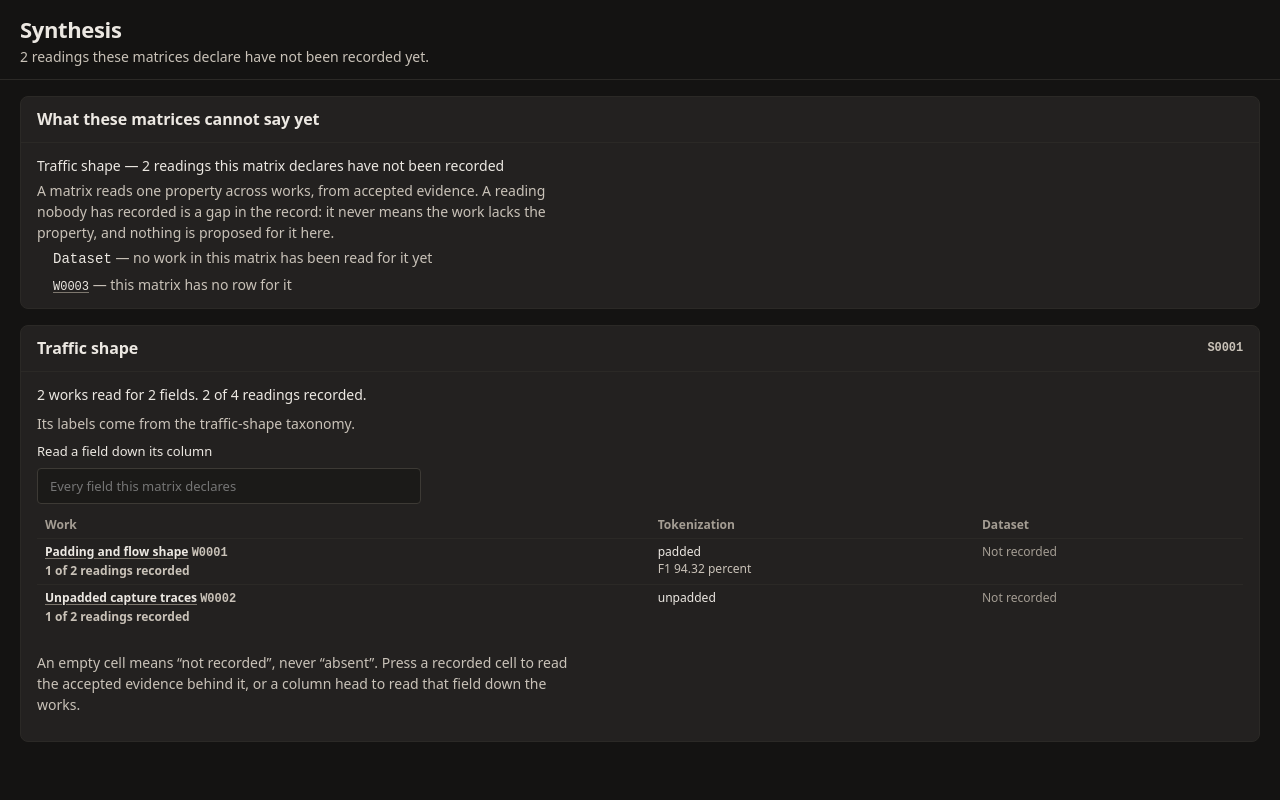
the synthesis page › opens a blank cell onto what a blank means rather than onto a reading
Check: the text "Not recorded" is shown 2 times, box [982,543,1057,560]; [982,589,1057,606]
Click the button "Not recorded" in the row of "Padding and flow shape". click: (1108, 552)
box: [982,543,1235,560]
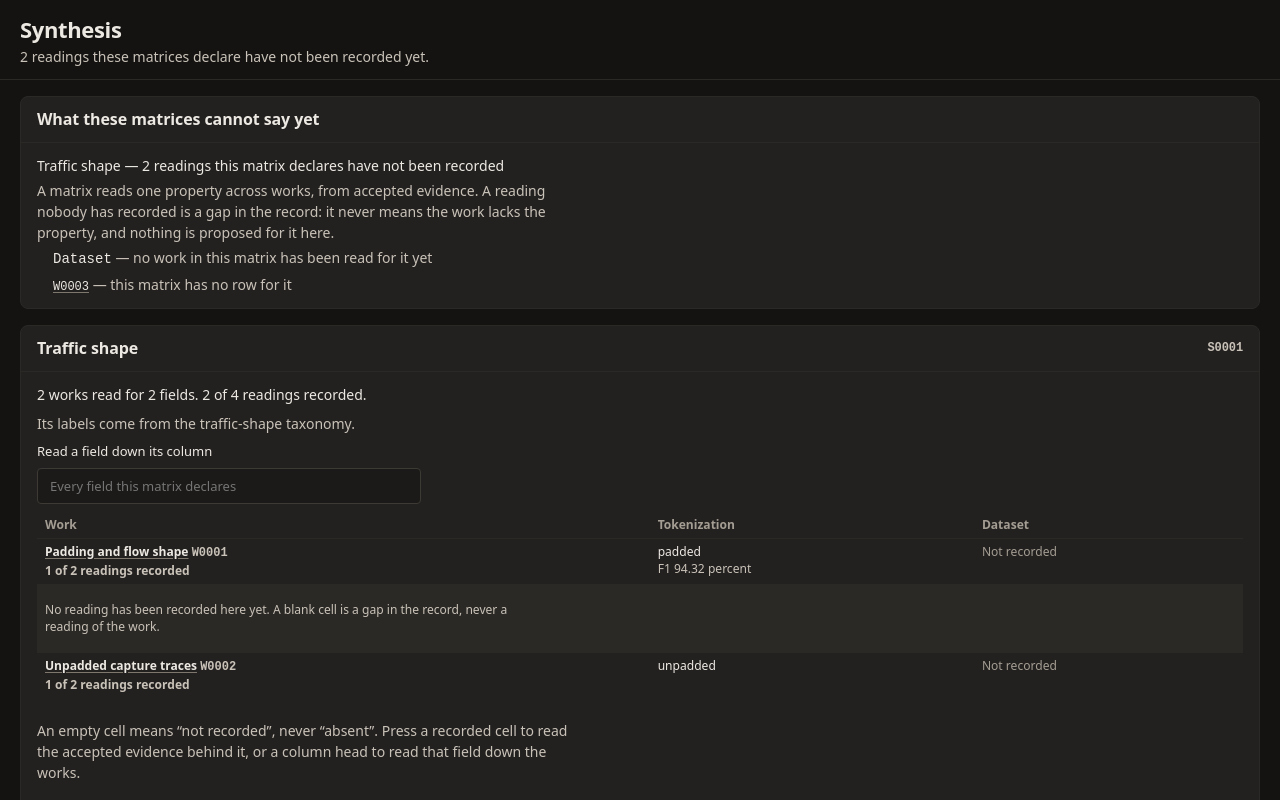
Check: the text "No reading has been recorded here yet. A blank cell is a gap in the record, never a reading of the work." is shown, box [45,601,507,635]
